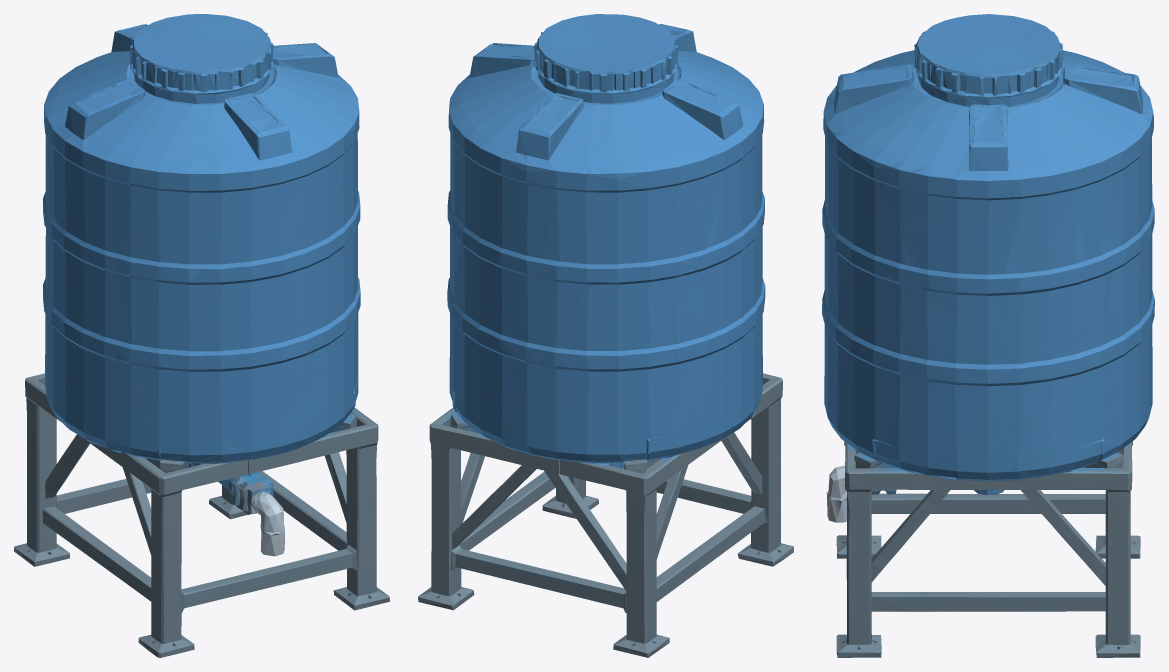
The model's file is water_tank_roof.glb.
3 views of the same model, side by side, from view 1: azimuth 30°, elevation 25°; view 2: azimuth 150°, elevation 25°; view 3: azimuth 270°, elevation 25° (orthographic). The views are drawn at different scales.
Visible parts, largest first — view 1: water_tank_roof; view 2: water_tank_roof; view 3: water_tank_roof.
Boxes of the visible parts, <box> form: water_tank_roof: <box>14,14,389,657</box>; water_tank_roof: <box>418,14,793,657</box>; water_tank_roof: <box>822,14,1154,657</box>.
Size of the model in its own units: 0.9172 by 1.7 by 0.9235.
Materials: 1 (1 with a texture image).
